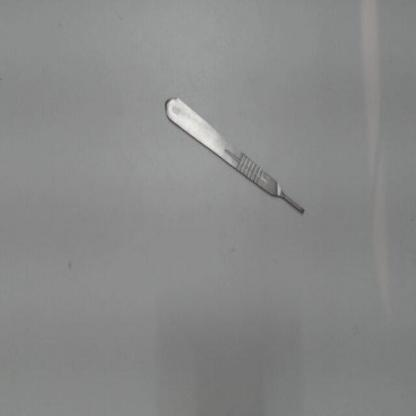No.3 BP Handle: (161, 78, 316, 235)
